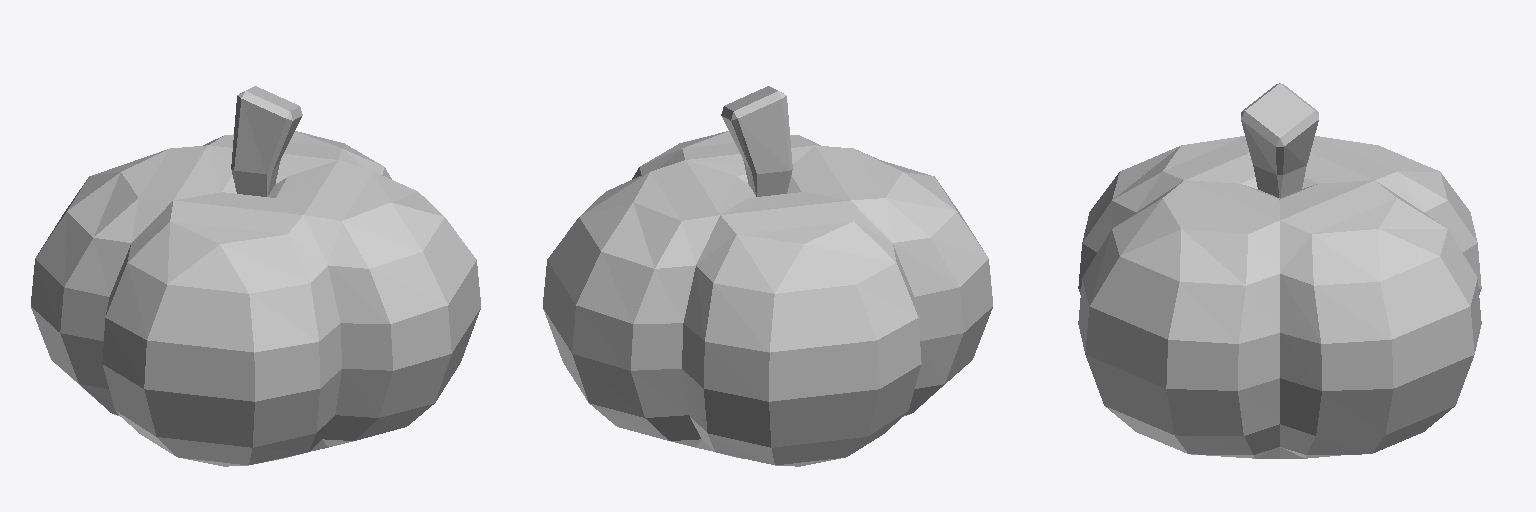
File: pumpkin_yellow_small.obj
The picture shows the model from 3 angles: view 1: azimuth 30°, elevation 25°; view 2: azimuth 150°, elevation 25°; view 3: azimuth 270°, elevation 25°; orthographic projection.
Visible parts, largest first — view 1: pumpkin_yellow_small_Cube.083; view 2: pumpkin_yellow_small_Cube.083; view 3: pumpkin_yellow_small_Cube.083.
Part boxes in pixels (x1,y1,x2,y2): pumpkin_yellow_small_Cube.083: (31, 86, 480, 466); pumpkin_yellow_small_Cube.083: (543, 86, 992, 466); pumpkin_yellow_small_Cube.083: (1078, 83, 1481, 458).
Bounding box in the file's own units: 0.6 × 0.55 × 0.6.